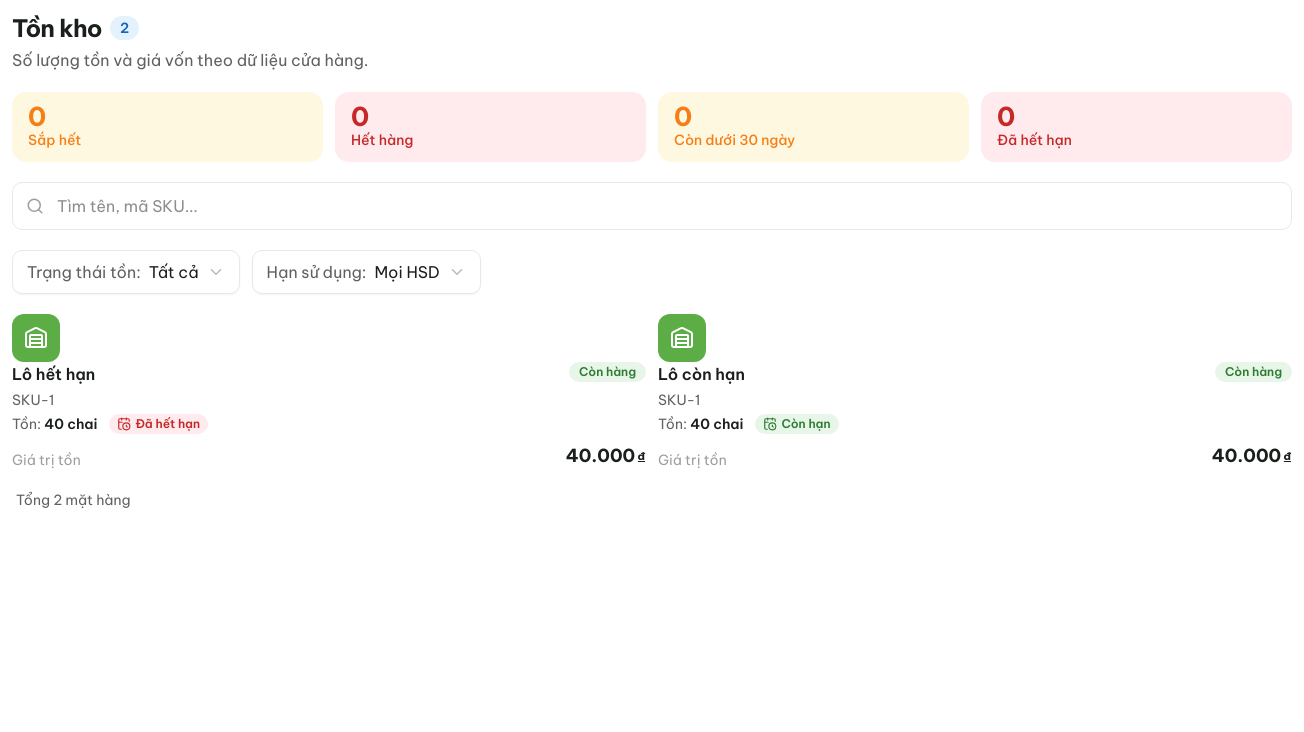
Test: InventoryList expiry tiers › filters the rows down to one tier when its tile is clicked
expect the text "Lô hết hạn" is shown: met, box 12,362 -> 95,386
expect the text "Lô còn hạn" is shown: met, box 658,362 -> 745,386
Click the button "0 Đã hết hạn" at (1034, 140), box 981,92 -> 1292,162
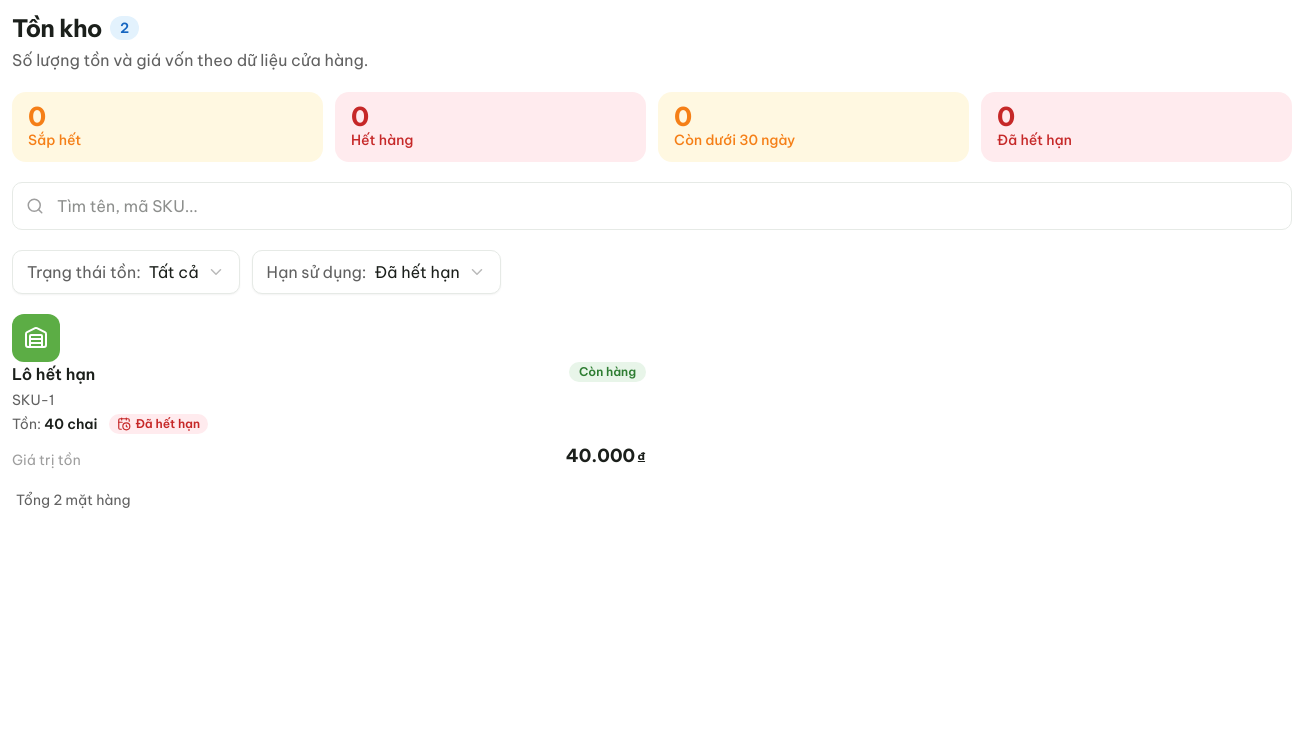
expect the text "Lô hết hạn" is shown: met, box 12,362 -> 95,386
expect the link "Lô còn hạn" is gone: met
